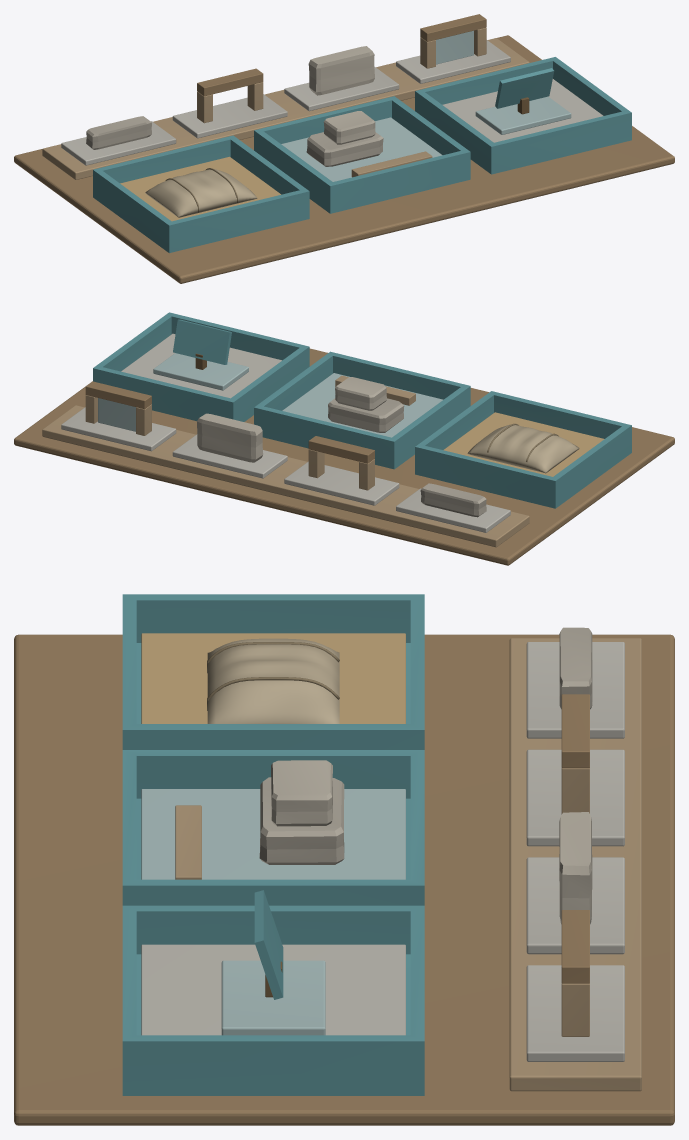
Rendered from nehemiah-watch.glb.
3 renders of one model, top to bottom at view 1: azimuth 30°, elevation 25°; view 2: azimuth 150°, elevation 25°; view 3: azimuth 270°, elevation 25°, orthographic. The views are drawn at different scales.
Parts seen in each view (by area): view 1: nehemiah-watch-nehemiah-original-ordinary-wood, nehemiah-watch-nehemiah-modern-section-indicator, nehemiah-watch-nehemiah-modern-section-indicator.002, nehemiah-watch-nehemiah-modern-section-indicator.001, nehemiah-watch-nehemiah-original-pale-wood.001, nehemiah-watch-nehemiah-original-plain-load-wrap, nehemiah-watch-nehemiah-modern-pale-section-indicator, nehemiah-watch-nehemiah-modern-recessed-fixture, nehemiah-watch-nehemiah-original-pale-stone.001, nehemiah-watch-nehemiah-modern-reading-ochre, nehemiah-watch-nehemiah-modern-recessed-fixture.002, nehemiah-watch-nehemiah-modern-pale-section-indicator.001 (+13 smaller); view 2: nehemiah-watch-nehemiah-original-ordinary-wood, nehemiah-watch-nehemiah-modern-section-indicator, nehemiah-watch-nehemiah-modern-section-indicator.001, nehemiah-watch-nehemiah-modern-section-indicator.002, nehemiah-watch-nehemiah-original-pale-wood.001, nehemiah-watch-nehemiah-original-plain-load-wrap, nehemiah-watch-nehemiah-modern-recessed-fixture, nehemiah-watch-nehemiah-original-pale-stone.001, nehemiah-watch-nehemiah-modern-reading-ochre, nehemiah-watch-nehemiah-modern-recessed-fixture.002, nehemiah-watch-nehemiah-modern-pale-section-indicator, nehemiah-watch-nehemiah-modern-pale-section-indicator.001 (+13 smaller); view 3: nehemiah-watch-nehemiah-original-ordinary-wood, nehemiah-watch-nehemiah-modern-section-indicator.002, nehemiah-watch-nehemiah-modern-section-indicator, nehemiah-watch-nehemiah-original-pale-wood.001, nehemiah-watch-nehemiah-modern-section-indicator.001, nehemiah-watch-nehemiah-modern-recessed-fixture, nehemiah-watch-nehemiah-modern-pale-section-indicator, nehemiah-watch-nehemiah-modern-reading-ochre, nehemiah-watch-nehemiah-original-plain-load-wrap, nehemiah-watch-nehemiah-modern-recessed-fixture.004, nehemiah-watch-nehemiah-modern-pale-section-indicator.001, nehemiah-watch-nehemiah-modern-recessed-fixture.002 (+13 smaller).
Part boxes in pixels (x1,y1,x2,y2): nehemiah-watch-nehemiah-original-ordinary-wood: [14, 35, 674, 283]; nehemiah-watch-nehemiah-modern-section-indicator: [93, 135, 309, 252]; nehemiah-watch-nehemiah-modern-section-indicator.002: [415, 57, 631, 174]; nehemiah-watch-nehemiah-modern-section-indicator.001: [254, 96, 470, 213]; nehemiah-watch-nehemiah-original-pale-wood.001: [42, 38, 529, 179]; nehemiah-watch-nehemiah-original-plain-load-wrap: [145, 169, 257, 217]; nehemiah-watch-nehemiah-modern-pale-section-indicator: [281, 117, 442, 181]; nehemiah-watch-nehemiah-modern-recessed-fixture: [442, 79, 603, 142]; nehemiah-watch-nehemiah-original-pale-stone.001: [308, 46, 374, 95]; nehemiah-watch-nehemiah-modern-reading-ochre: [120, 156, 280, 221]; nehemiah-watch-nehemiah-modern-recessed-fixture.002: [172, 94, 287, 138]; nehemiah-watch-nehemiah-modern-pale-section-indicator.001: [475, 96, 571, 134]; nehemiah-watch-nehemiah-original-ordinary-wood: [14, 348, 674, 565]; nehemiah-watch-nehemiah-modern-section-indicator: [415, 391, 631, 508]; nehemiah-watch-nehemiah-modern-section-indicator.001: [254, 351, 470, 469]; nehemiah-watch-nehemiah-modern-section-indicator.002: [93, 312, 309, 421]; nehemiah-watch-nehemiah-original-pale-wood.001: [42, 405, 529, 547]; nehemiah-watch-nehemiah-original-plain-load-wrap: [467, 424, 579, 473]; nehemiah-watch-nehemiah-modern-recessed-fixture: [121, 333, 281, 398]; nehemiah-watch-nehemiah-original-pale-stone.001: [197, 413, 263, 462]; nehemiah-watch-nehemiah-modern-reading-ochre: [443, 412, 604, 476]; nehemiah-watch-nehemiah-modern-recessed-fixture.002: [284, 461, 399, 505]; nehemiah-watch-nehemiah-modern-pale-section-indicator: [282, 373, 443, 437]; nehemiah-watch-nehemiah-modern-pale-section-indicator.001: [153, 353, 248, 390]; nehemiah-watch-nehemiah-original-ordinary-wood: [14, 634, 674, 1125]; nehemiah-watch-nehemiah-modern-section-indicator.002: [122, 905, 424, 1095]; nehemiah-watch-nehemiah-modern-section-indicator: [122, 594, 424, 749]; nehemiah-watch-nehemiah-original-pale-wood.001: [509, 638, 641, 1091]; nehemiah-watch-nehemiah-modern-section-indicator.001: [122, 750, 424, 905]; nehemiah-watch-nehemiah-modern-recessed-fixture: [141, 944, 405, 1035]; nehemiah-watch-nehemiah-modern-pale-section-indicator: [141, 789, 405, 879]; nehemiah-watch-nehemiah-modern-reading-ochre: [141, 633, 405, 723]; nehemiah-watch-nehemiah-original-plain-load-wrap: [207, 638, 339, 723]; nehemiah-watch-nehemiah-modern-recessed-fixture.004: [526, 965, 624, 1061]; nehemiah-watch-nehemiah-modern-pale-section-indicator.001: [221, 960, 325, 1035]; nehemiah-watch-nehemiah-modern-recessed-fixture.002: [526, 749, 624, 846].
Bounding box in the file's own units: 1.2 × 0.1499 × 0.7.
